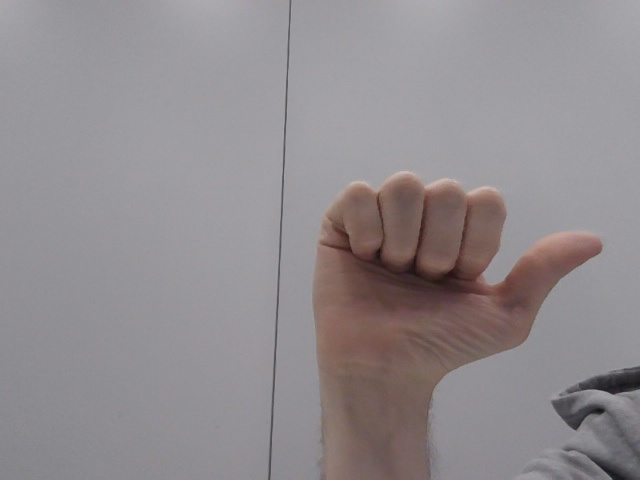left: (294, 146, 614, 412)
